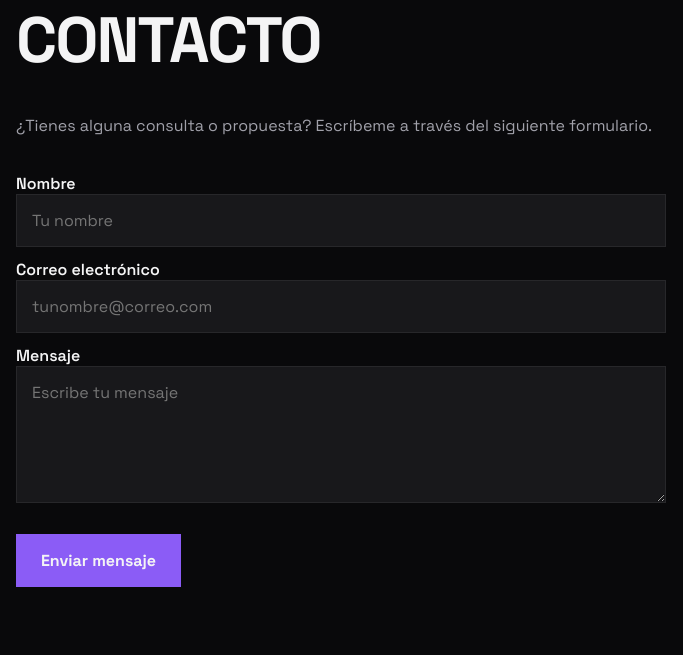
Scenario: Componente Contacto › debe mostrar un mensaje de éxito cuando los datos son válidos
Type "Ignacio Lobos" into the field labelled "Nombre" at (341, 220), box x1=16 y1=194 x2=666 y2=247
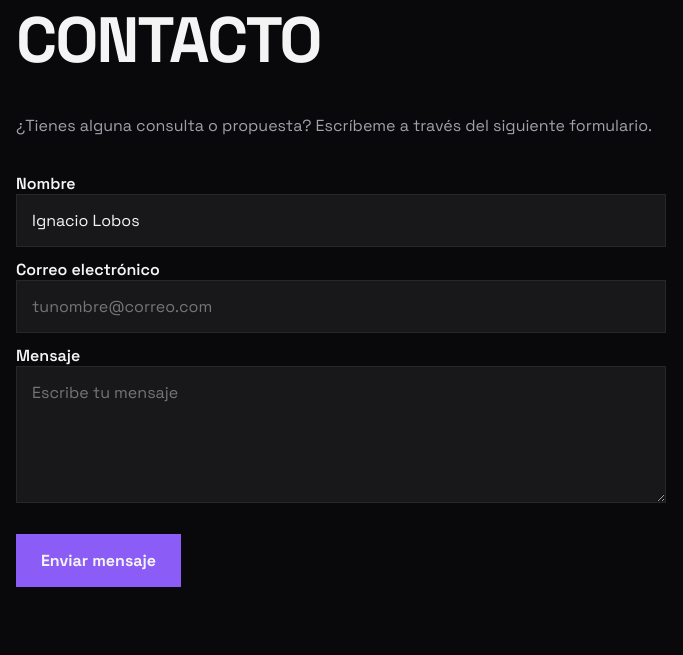
Type "ignacio@correo.com" into the field labelled "Correo electrónico" at (341, 306), box x1=16 y1=280 x2=666 y2=333
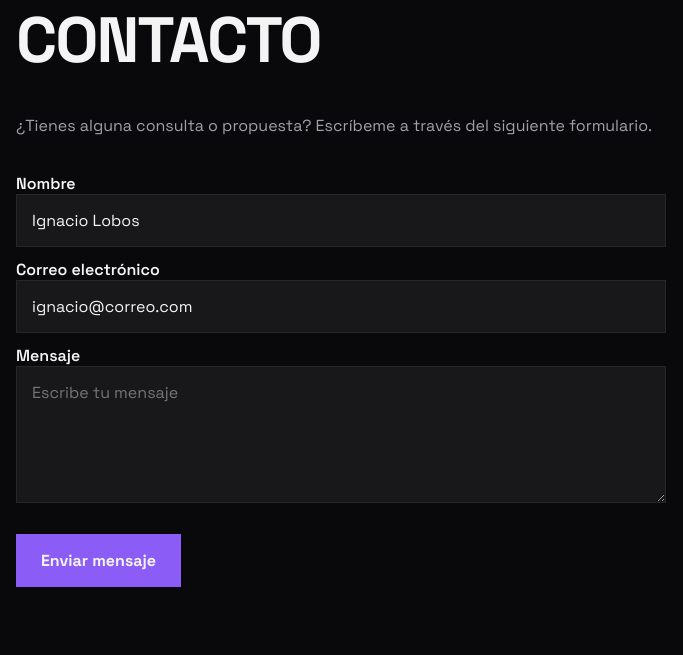
Type "Hola, este es un mensaje de prueba." into the text box labelled "Mensaje" at (341, 434), box x1=16 y1=366 x2=666 y2=503
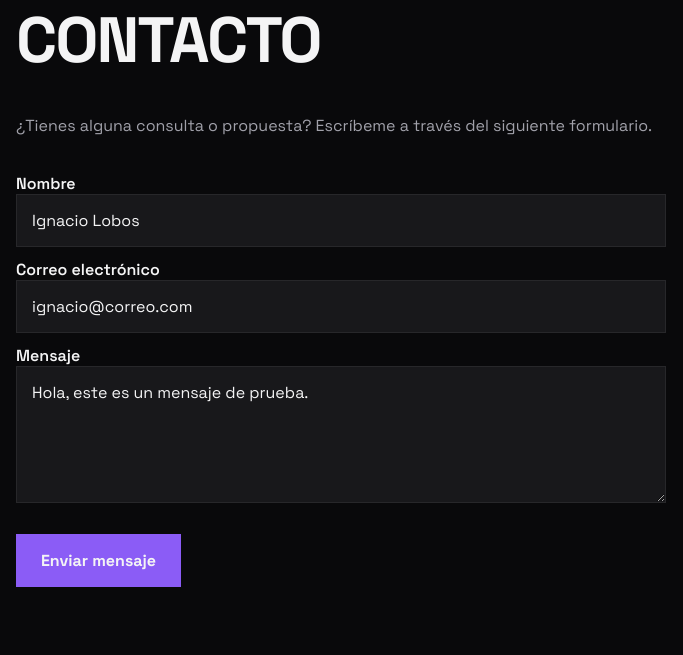
Click the button "Enviar mensaje" at (98, 560), box x1=16 y1=534 x2=181 y2=587
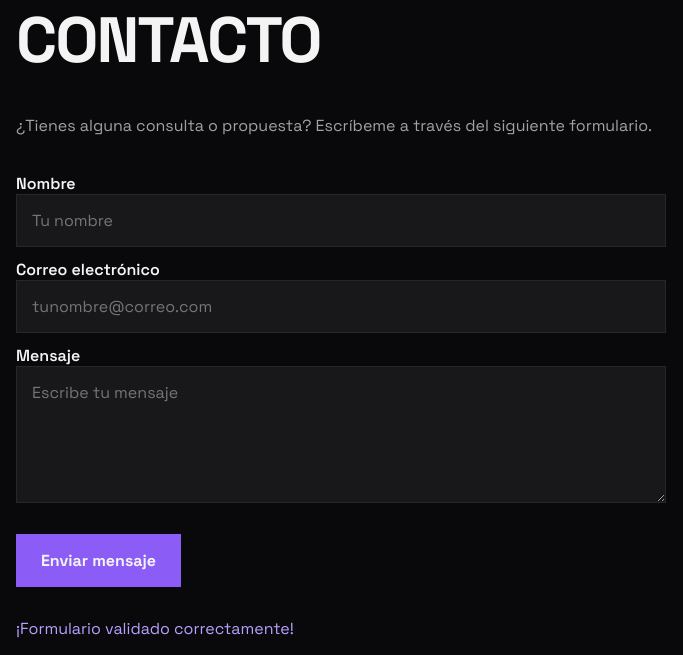
Expected: the message reads "¡Formulario validado correctamente!", x1=16 y1=618 x2=294 y2=639
Expected: the field labelled "Nombre" is empty, x1=16 y1=194 x2=666 y2=247
Expected: the field labelled "Correo electrónico" is empty, x1=16 y1=280 x2=666 y2=333
